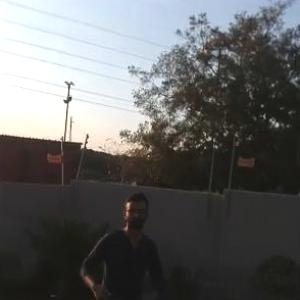follow: (74, 175, 166, 299)
